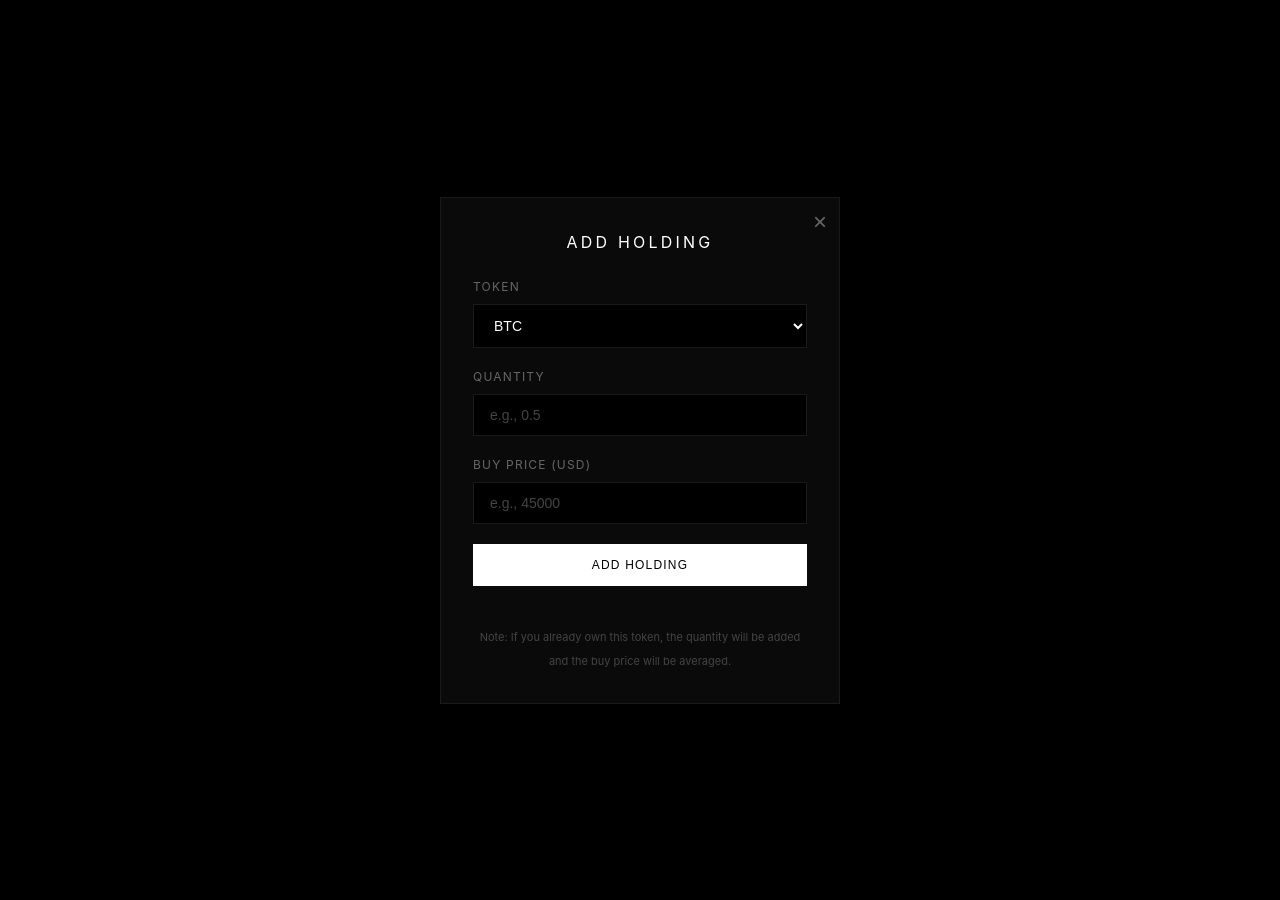
it: AddHoldingModal › shows error on API failure
The width and height of the screenshot is (1280, 900).
Type "0.5" into the number field labelled "Quantity".
click(640, 414); type("0.5")  # box [473,394,807,436]
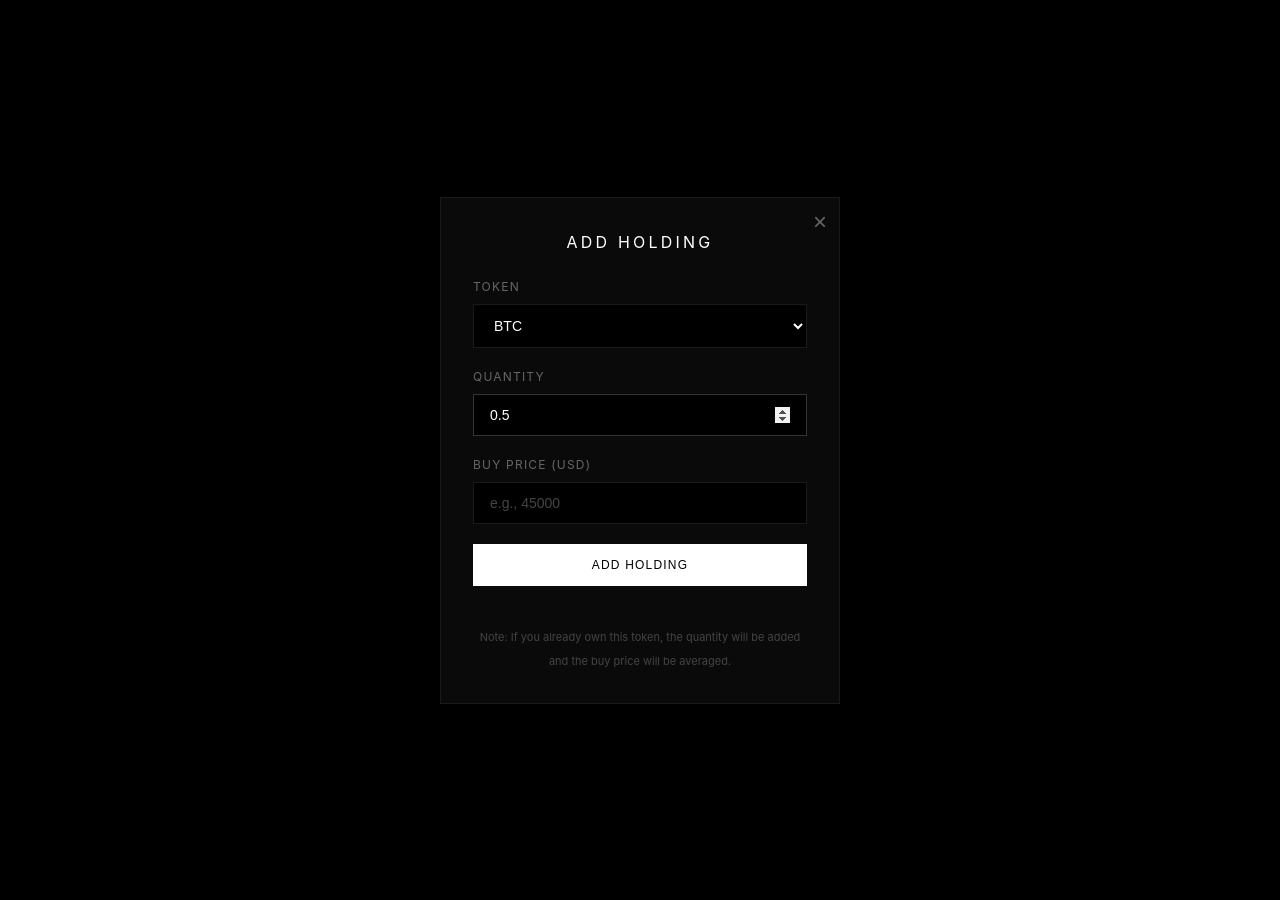
Type "40000" into the number field labelled "Buy Price (USD)".
click(640, 502); type("40000")  # box [473,482,807,524]
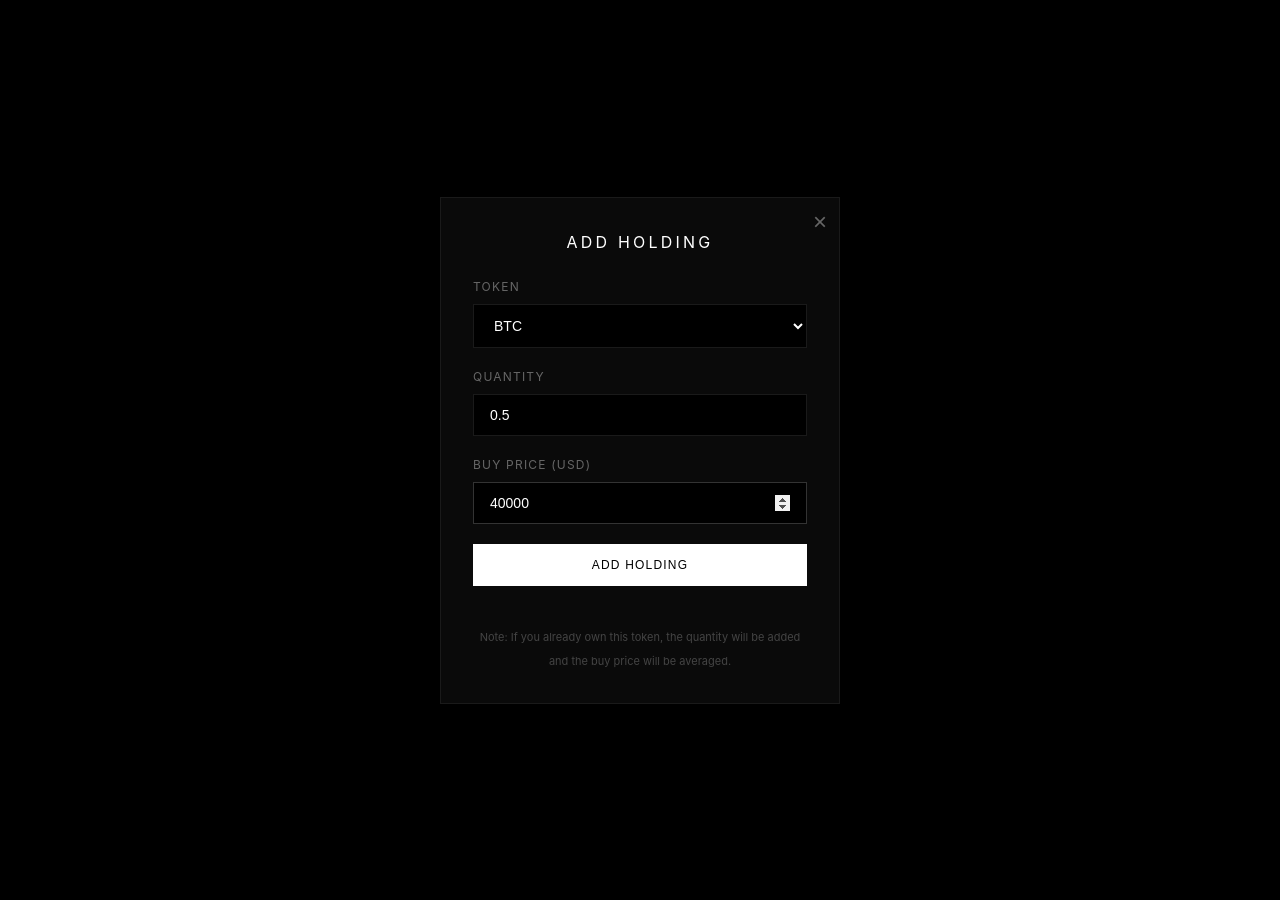
Click the button "Add Holding".
click(640, 564)  # box [473,544,807,586]
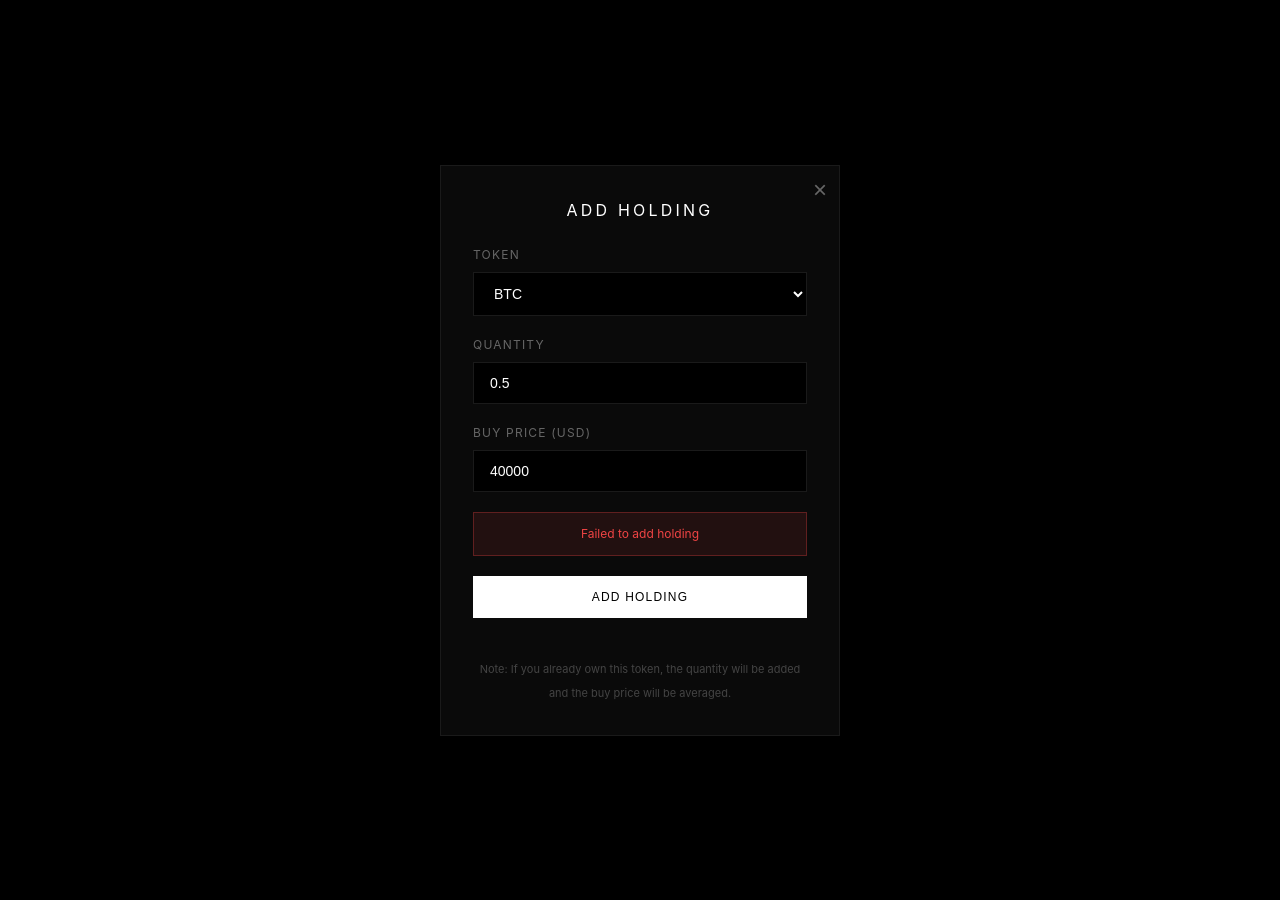
Result: the text "Failed to add holding" is shown at [473,512,807,556]
